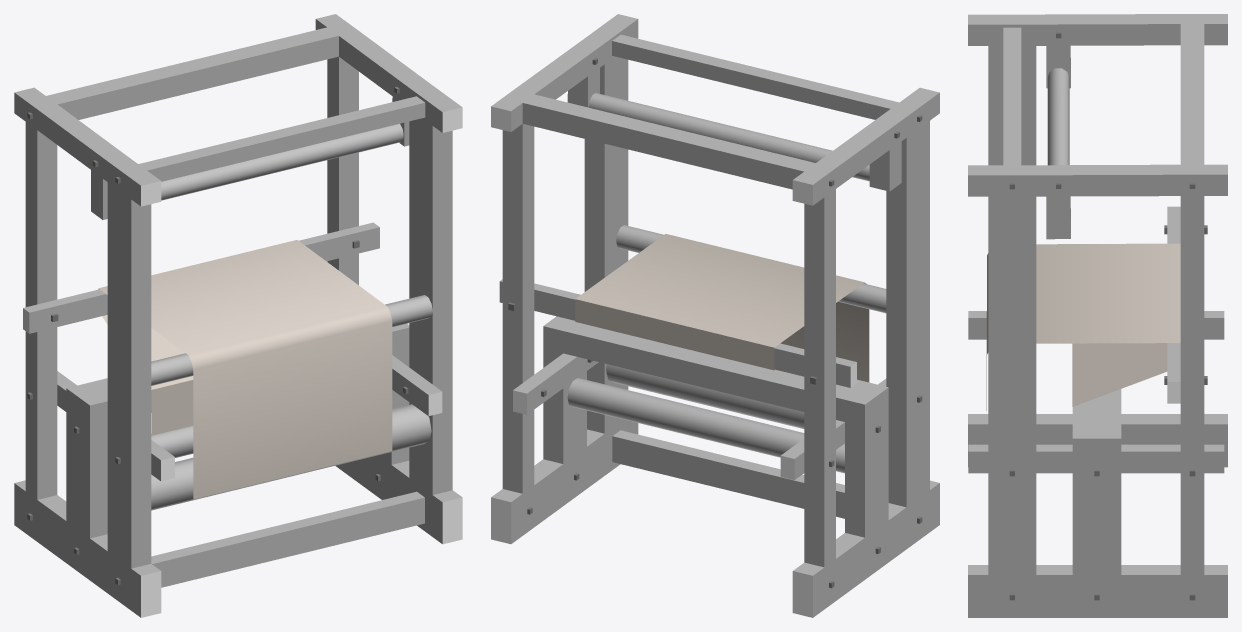
Rendered from loom.fbx.
3 views of the same model, side by side, from view 1: azimuth 30°, elevation 25°; view 2: azimuth 150°, elevation 25°; view 3: azimuth 270°, elevation 25° (orthographic). The views are drawn at different scales.
Parts seen in each view (by area): view 1: loom; view 2: loom; view 3: loom.
Boxes of the visible parts, left/top/right/bottom form: loom: left=14, top=14, right=462, bottom=617; loom: left=491, top=14, right=939, bottom=617; loom: left=968, top=14, right=1227, bottom=617.
Bounding box in the file's own units: 158 × 187 × 99.14.
2 materials, 2 textured.
